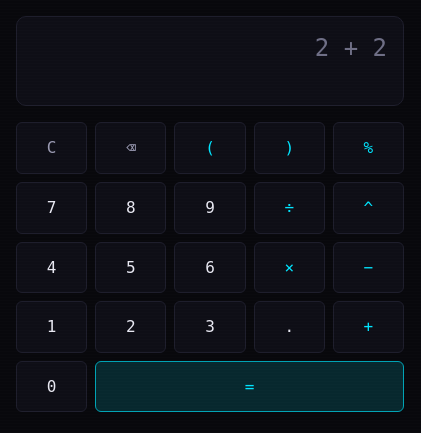
Test: Calculator › deletes the last character
The width and height of the screenshot is (421, 433).
Type "123" into the field named "expression". click: (210, 48)
box: [33,29,387,67]
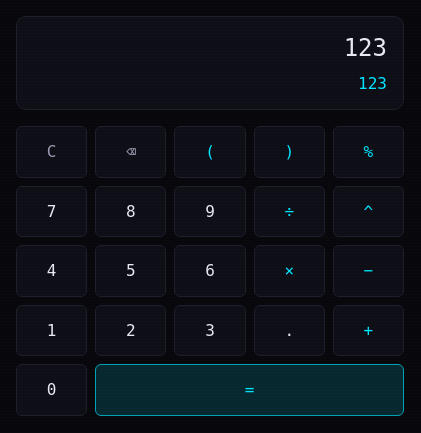
Click the button named "backspace". click: click(131, 152)
box: [95,126,166,178]
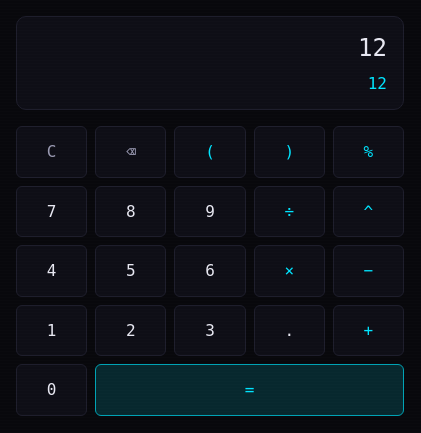
expect the field named "expression" holds "12": met, box [33,29,387,67]
